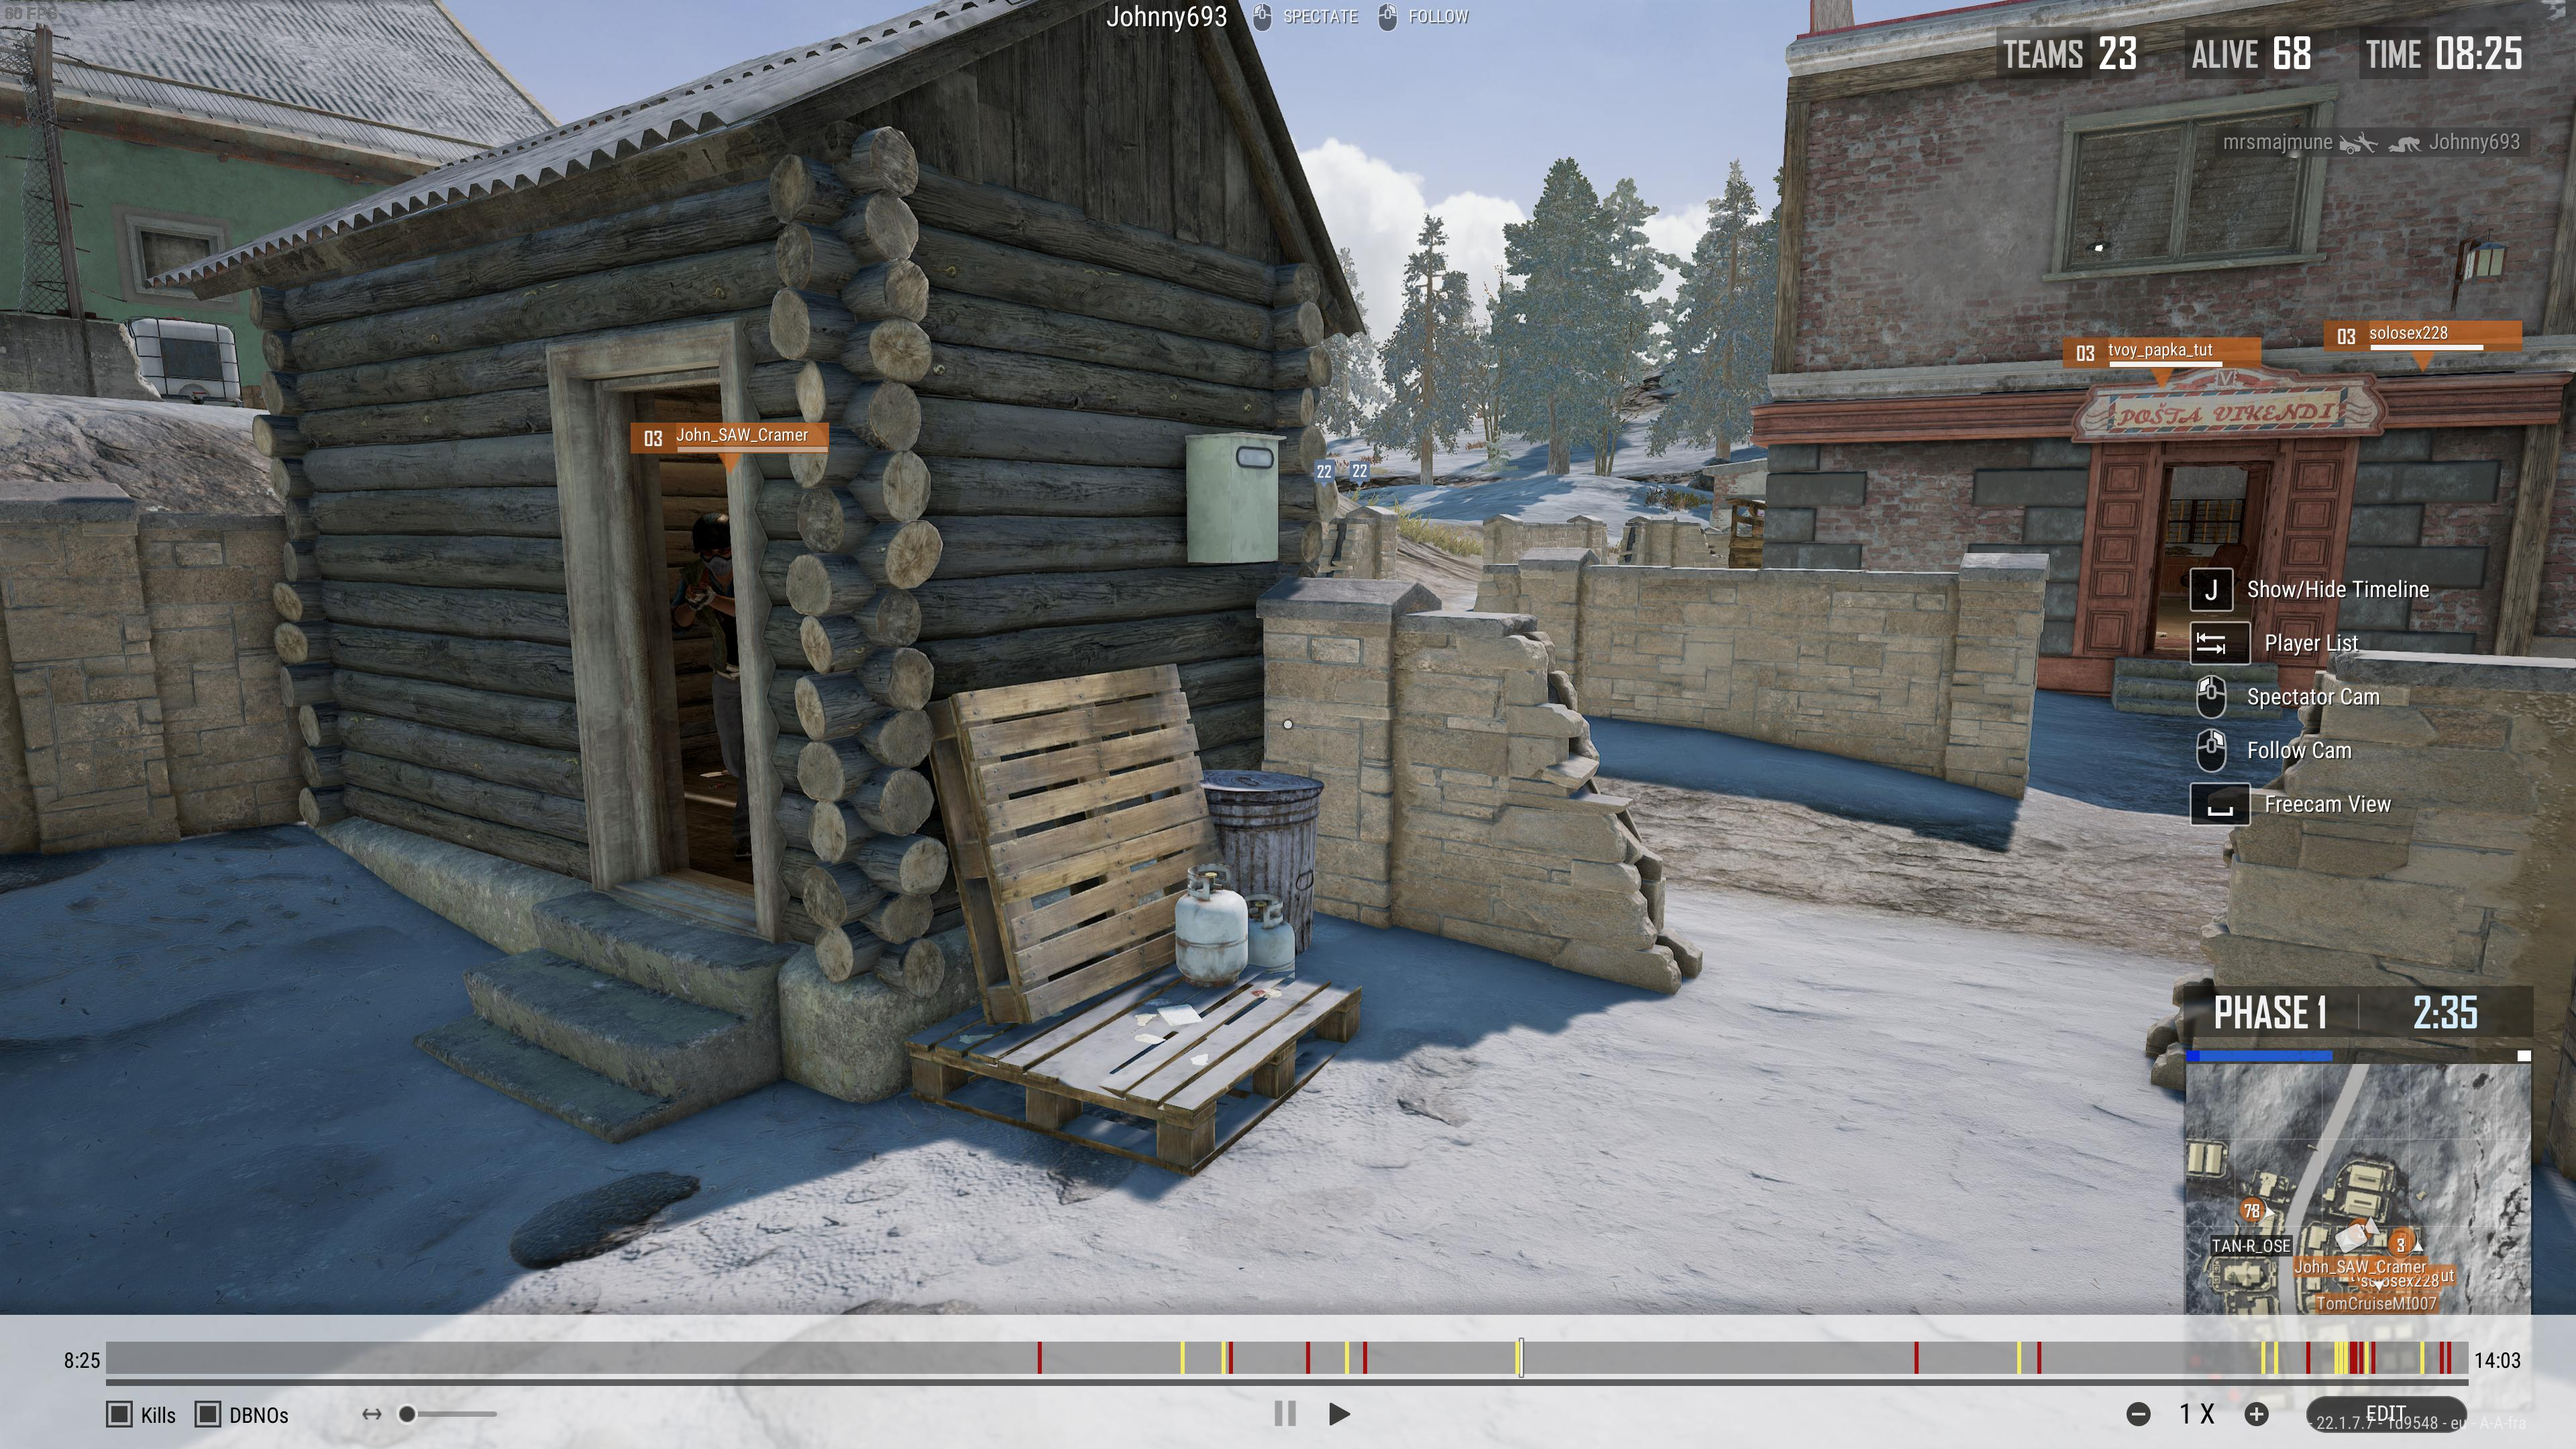enemy: (671, 513, 747, 840)
enemy_head: (692, 513, 731, 577)
